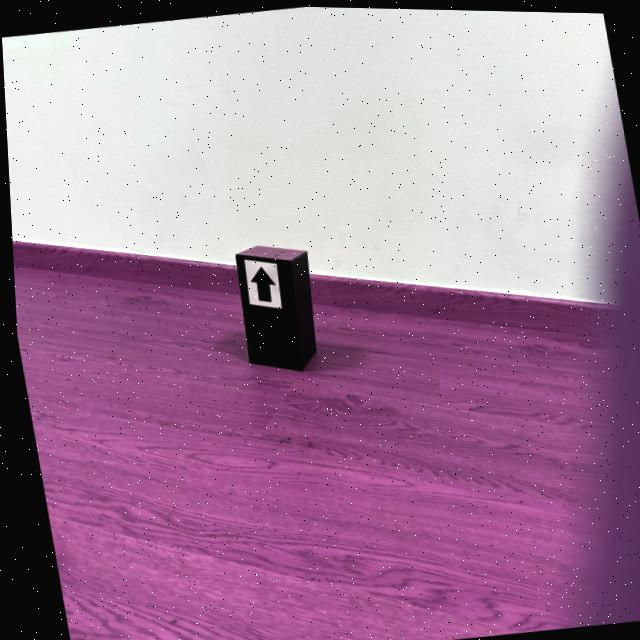UP: (248, 266, 270, 301)
